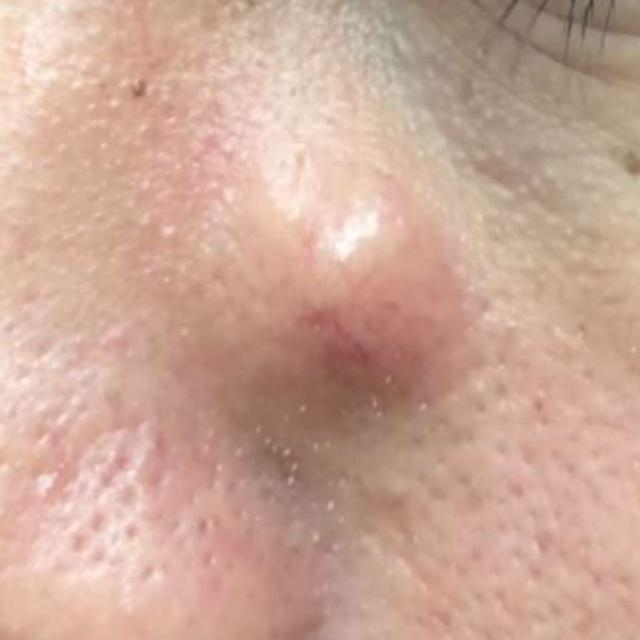blackhead: (127, 72, 149, 100)
nodule: (181, 163, 468, 420)
